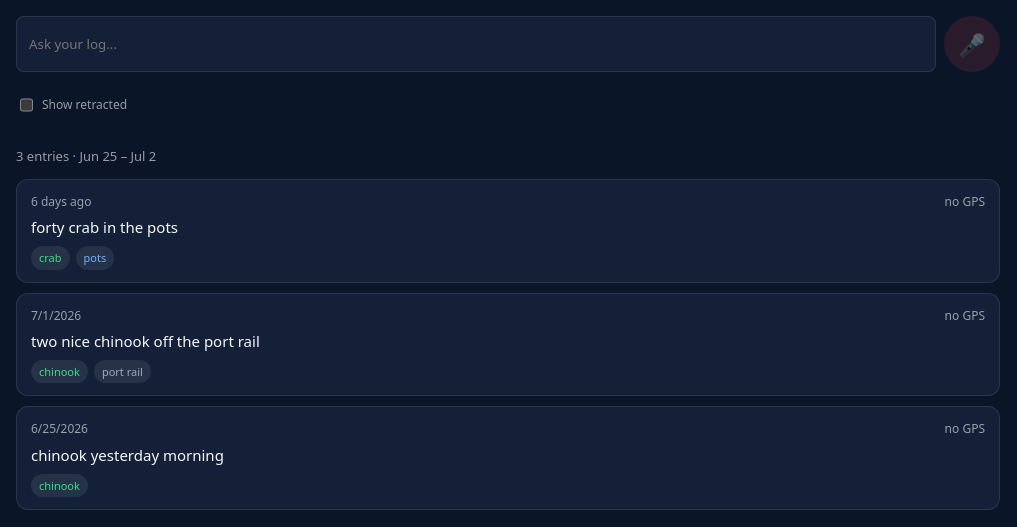
Test: TimelineScreen ask-to-timeline wiring › tapping a chip removes that constraint and re-runs the query
Type "chinook last week" into the search field labelled "Ask your log".
click(476, 44); type("chinook last week")  # box [16, 16, 936, 72]
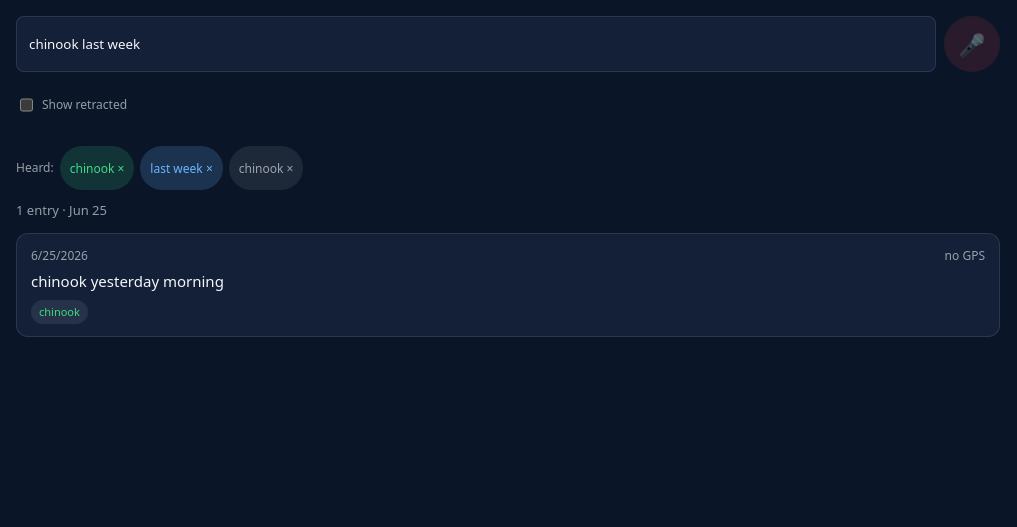
Now the button "last week ×" is shown
Note: Remove the date chip.
Click the button with aria-label "Remove last week".
click(182, 168)  # box [140, 146, 223, 190]
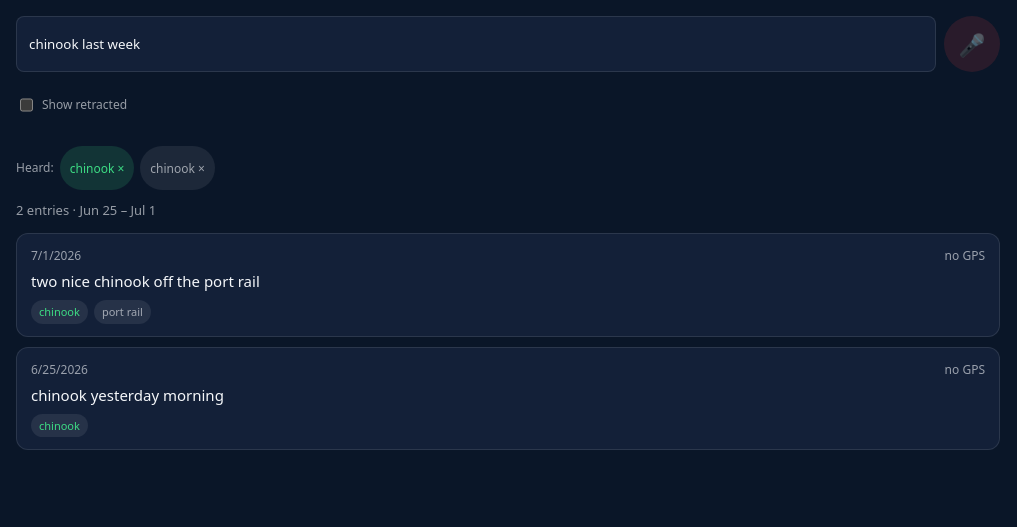
Expected: the text "chinook yesterday morning" is shown, [31, 385, 224, 405]
Now the text "two nice chinook off the port rail" is shown, box [31, 271, 260, 291]
